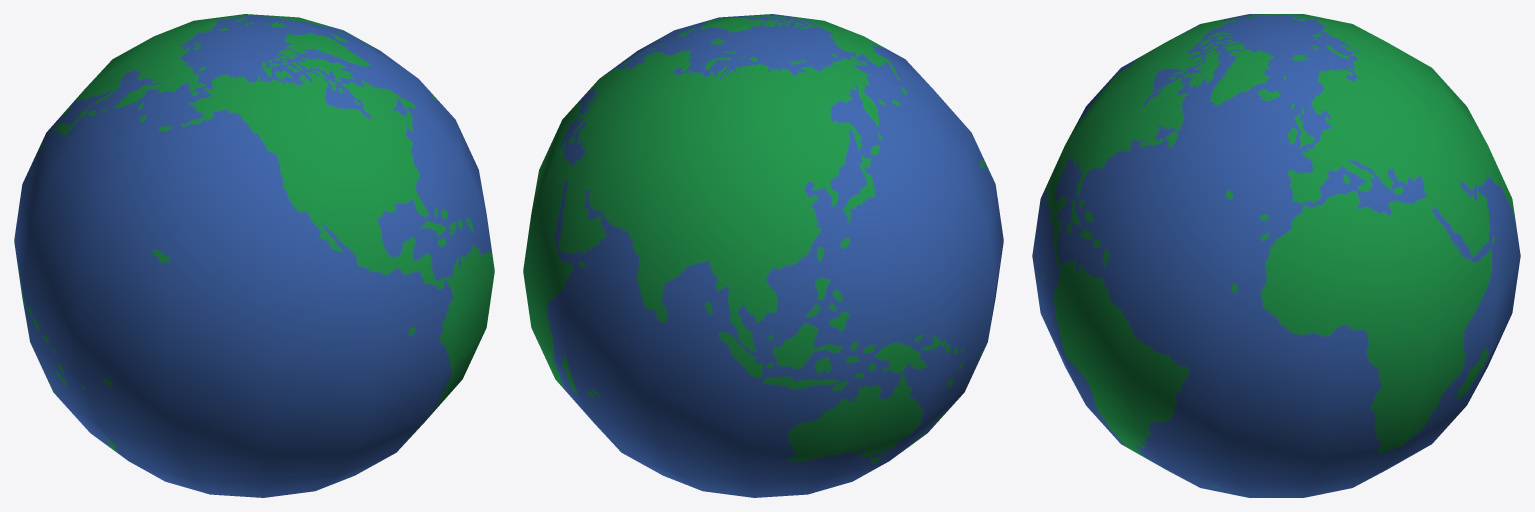
The model's file is Globe.fbx.
3 renders of one model, left to right at view 1: azimuth 30°, elevation 25°; view 2: azimuth 150°, elevation 25°; view 3: azimuth 270°, elevation 25°, orthographic.
Parts seen in each view (by area): view 1: Sphere.001; view 2: Sphere.001; view 3: Sphere.001.
Part boxes in pixels (<box>): Sphere.001: <box>14,14,494,497</box>; Sphere.001: <box>523,14,1003,497</box>; Sphere.001: <box>1032,14,1520,497</box>.
Bounding box in the file's own units: 97.49 × 98.93 × 100.
Materials: 1 (1 with a texture image).
